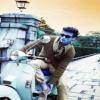motorcycles: (2, 52, 39, 100)
